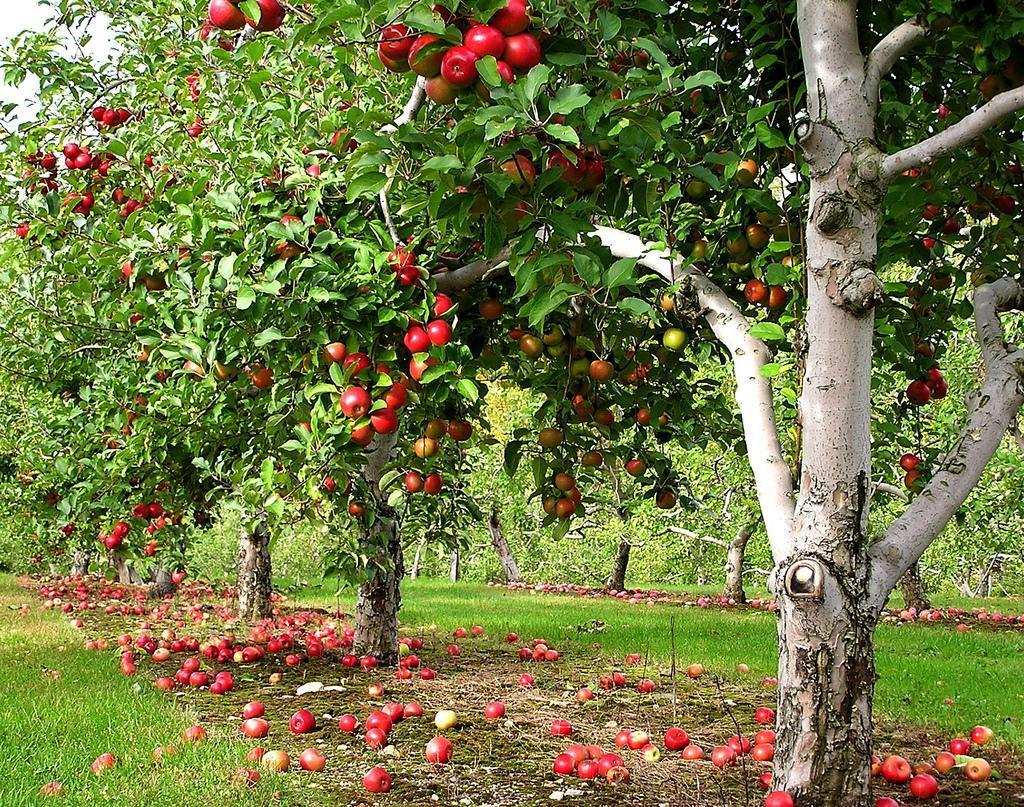apple: (436, 47, 478, 84)
